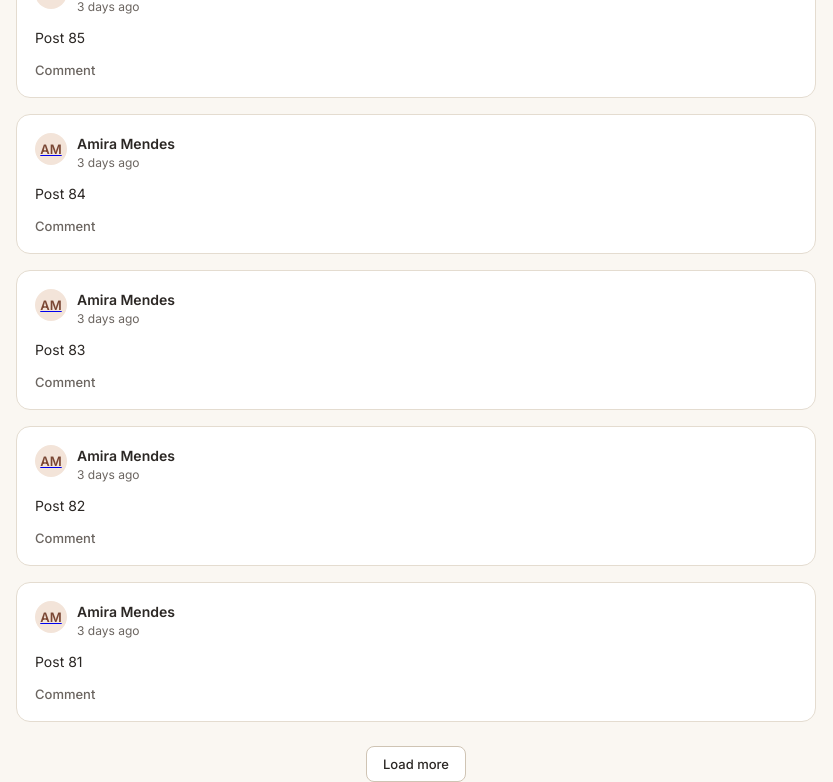
Test case: FeedPage › loads more until a short page comes back
(page scrolled)
Click the button "Load more". click: coordinates (416, 764)
box: [366,746,466,781]
(page scrolled)
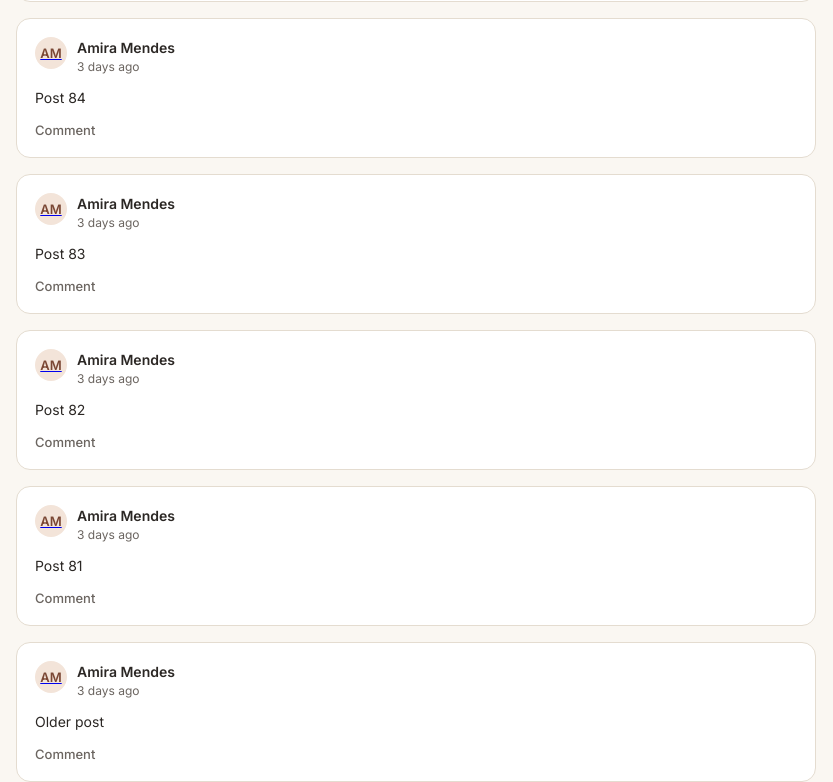
Result: the text "Older post" is shown at [35,713,104,730]
Result: the button "Load more" is gone
